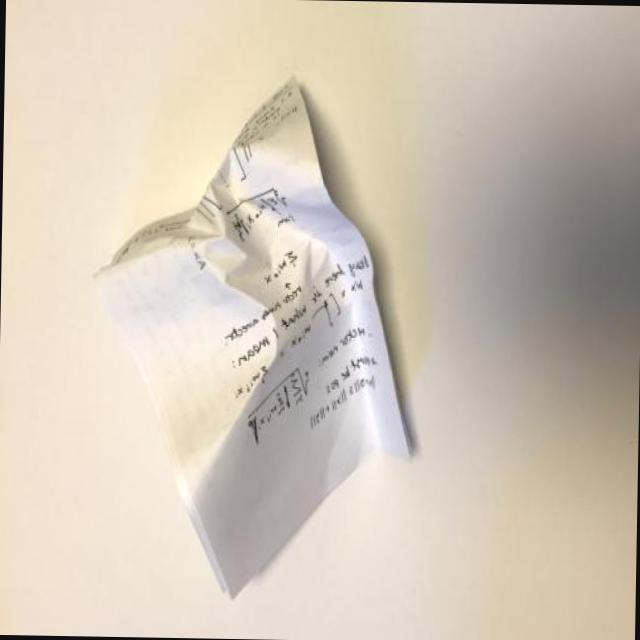giay: (91, 75, 416, 598)
